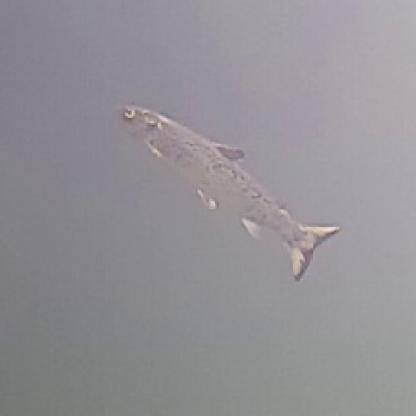salmon: (109, 97, 342, 281)
